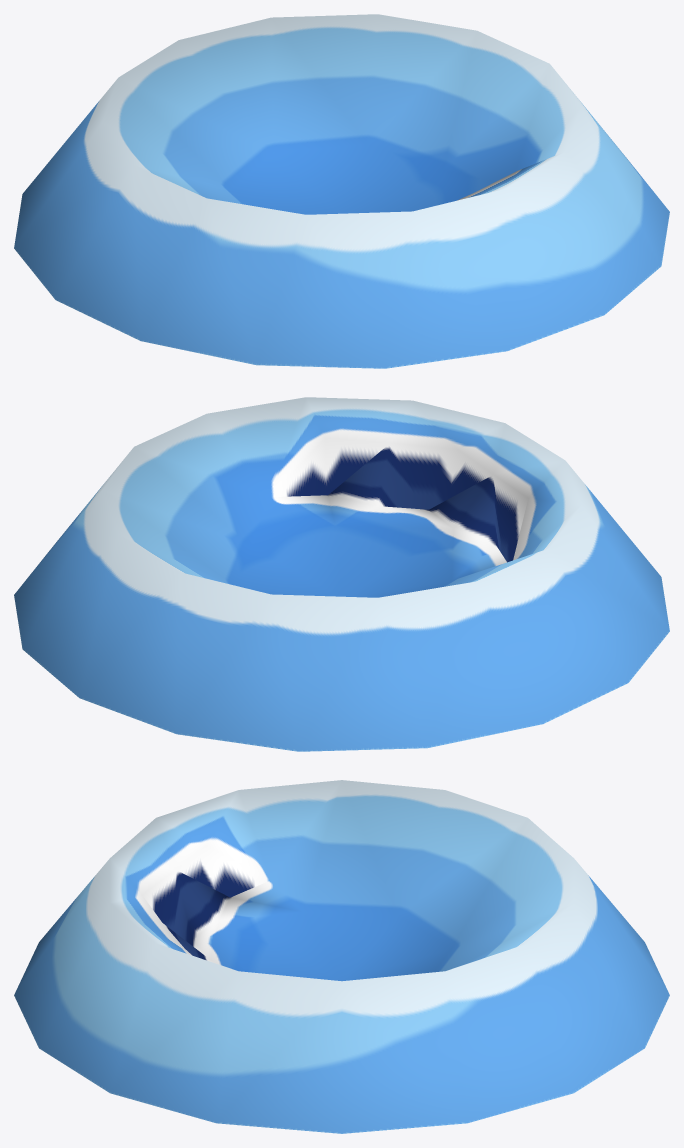
Rendered from Bubble_Popped_I.fbx.
The picture shows the model from 3 angles, top to bottom: view 1: azimuth 30°, elevation 25°; view 2: azimuth 150°, elevation 25°; view 3: azimuth 270°, elevation 25°; orthographic projection.
Visible parts, largest first — view 1: Bubble_Popped_I; view 2: Bubble_Popped_I; view 3: Bubble_Popped_I.
Part boxes in pixels (x1,y1,x2,y2): Bubble_Popped_I: (14, 14, 669, 368); Bubble_Popped_I: (14, 397, 669, 751); Bubble_Popped_I: (14, 780, 669, 1133).
Bounding box in the file's own units: 1.13 × 0.218 × 1.13.
1 material, 1 textured.
